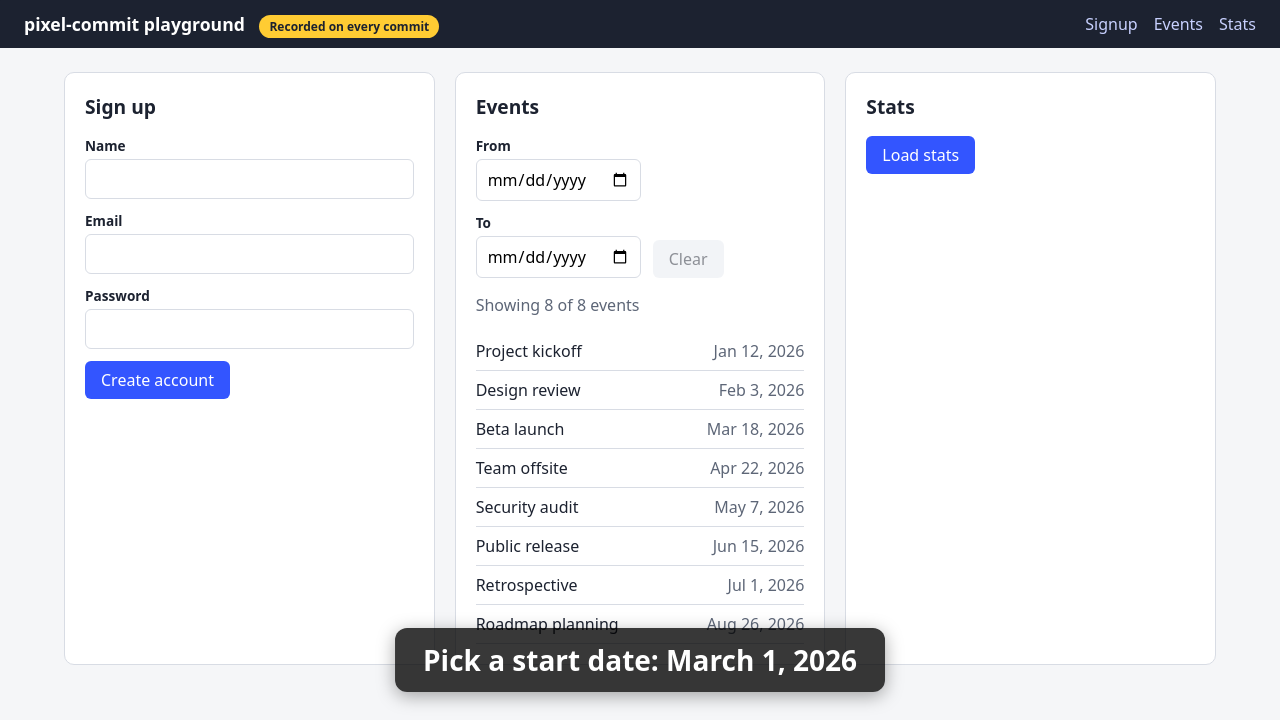
Test: Events date filter › narrows the list to a date range
The image size is (1280, 720).
Type "2026-03-01" into the date field with test id "filter-from" at (559, 180), box [476,159,641,201]
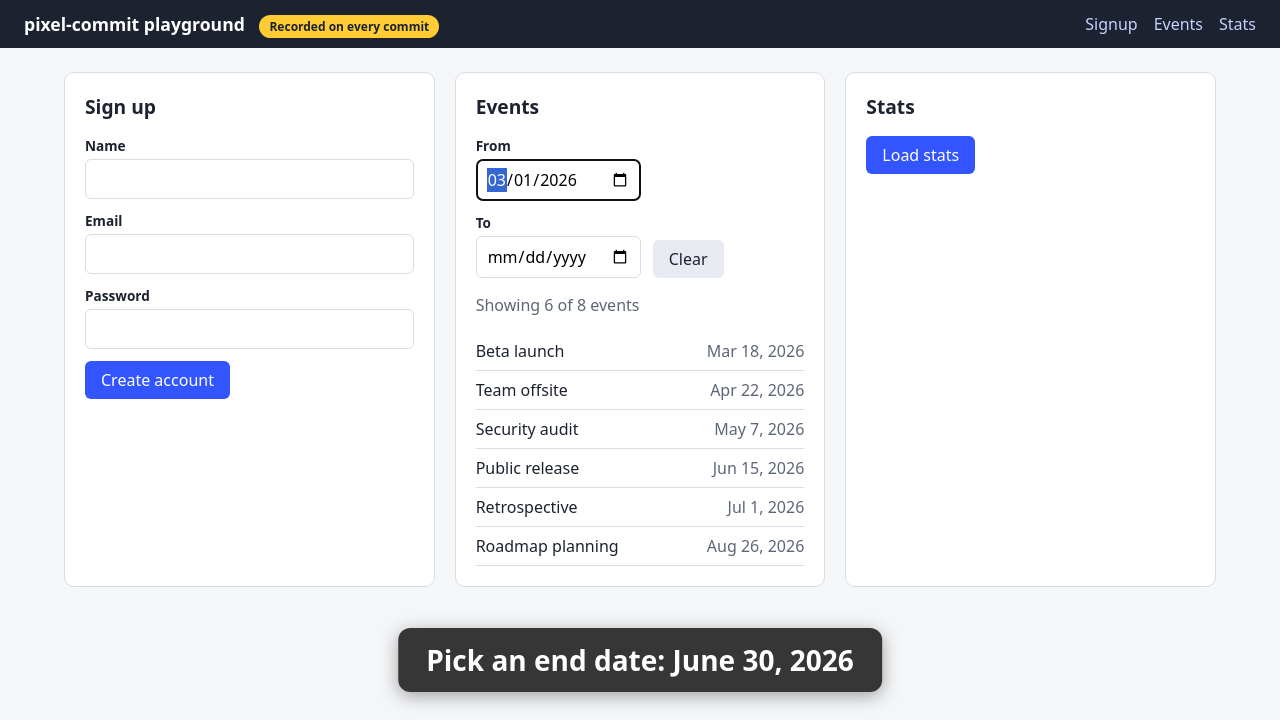
expect the text with test id "event-count" reads "Showing 6 of 8 events": met, box [476,294,640,316]
Type "2026-06-30" into the date field with test id "filter-to" at (559, 257), box [476,236,641,278]
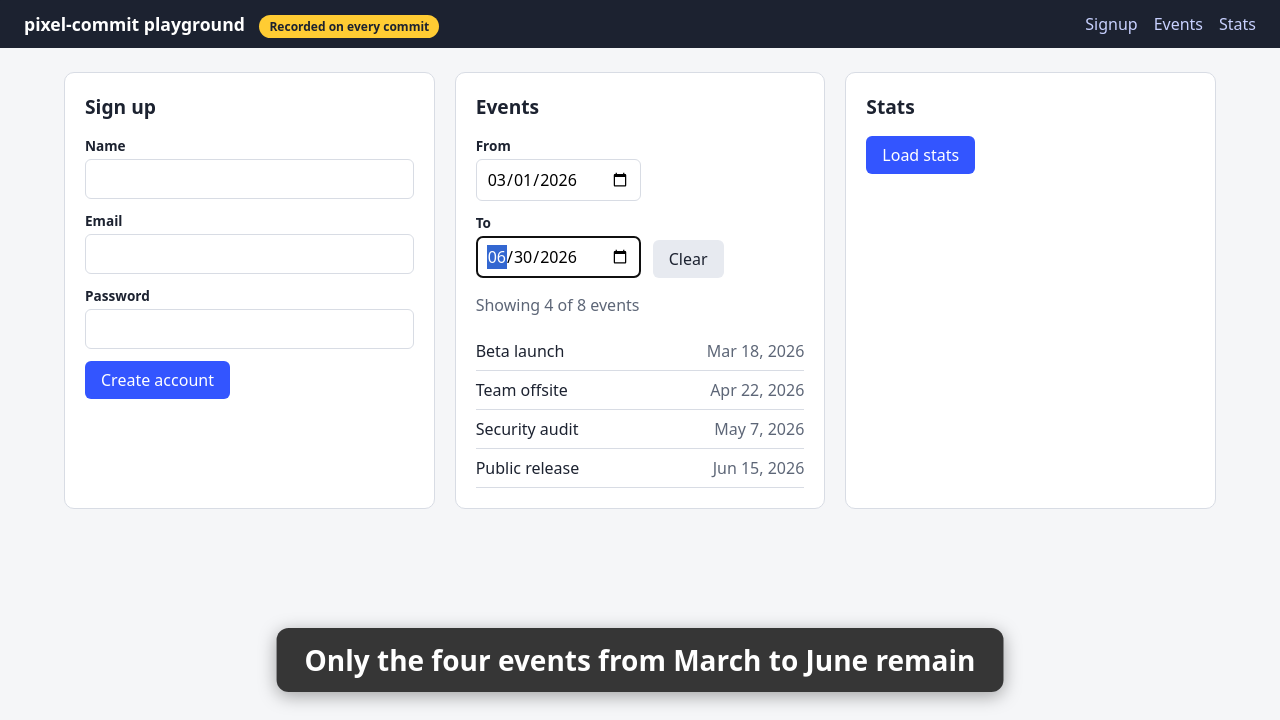
expect the list item with test id "event-item" shows "Beta launch": met, box [476,332,805,371]
expect the number of list items with test id "event-item" is 4: met, box [476,332,804,371]; [476,371,804,410]; [476,410,804,449]; [476,449,804,488]
